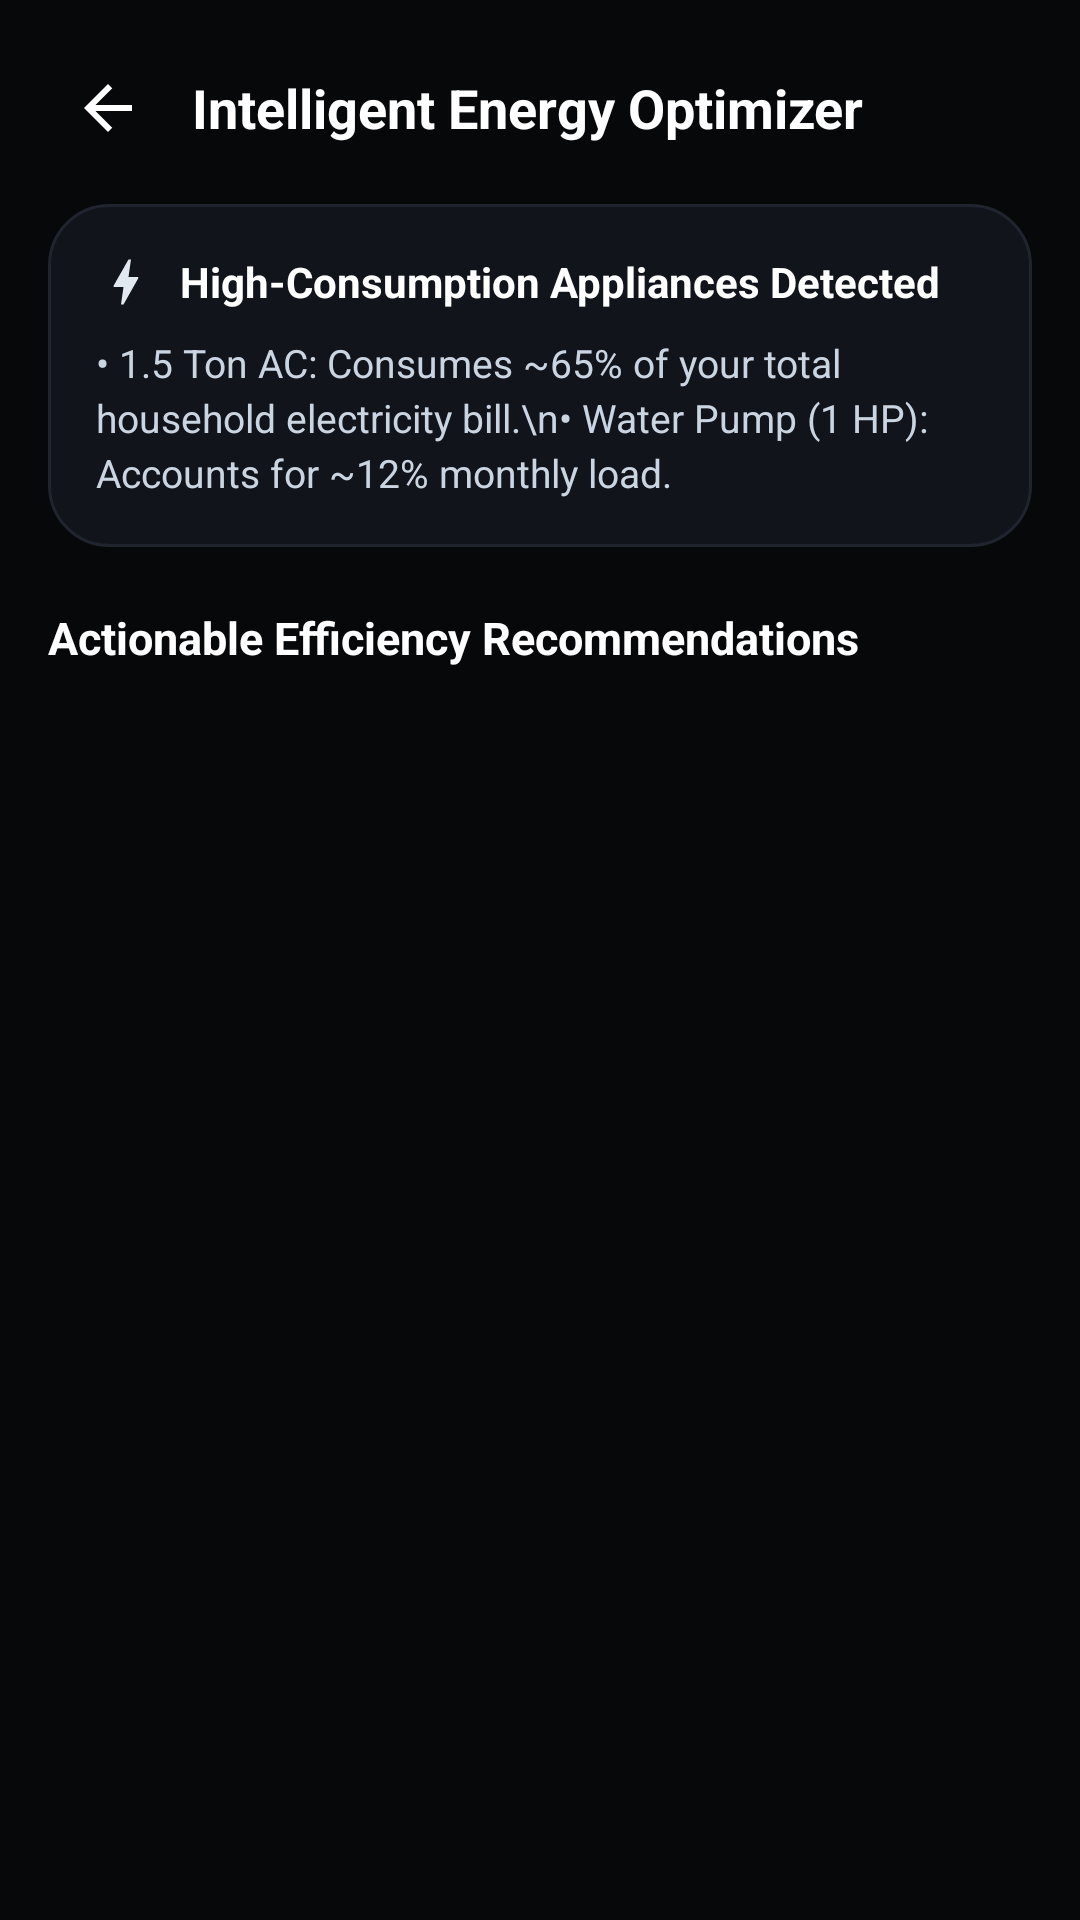

Screen size 1080w x 1920h. Icon name, then its box in pixels as (x1, y1, x2, y2):
arrow back: (84, 84, 132, 132)
bolt: (113, 259, 139, 305)
